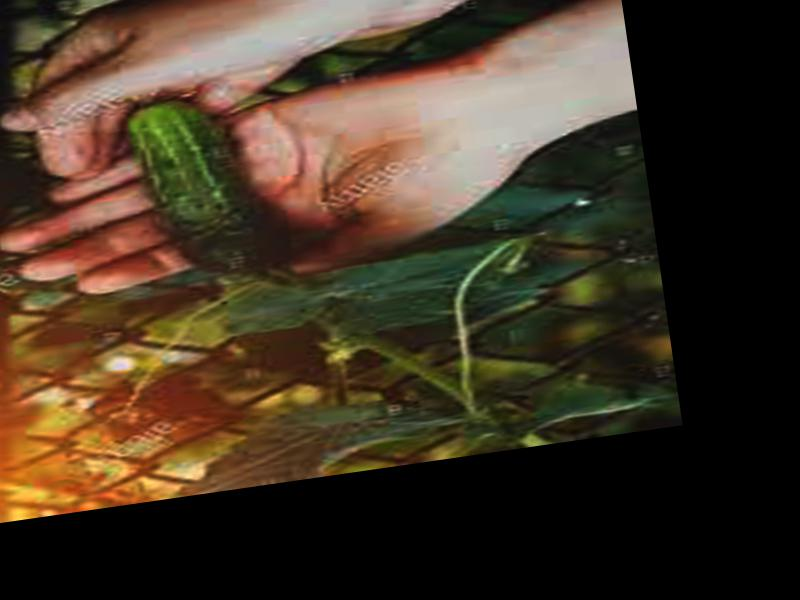Cucumber: (120, 84, 289, 286)
